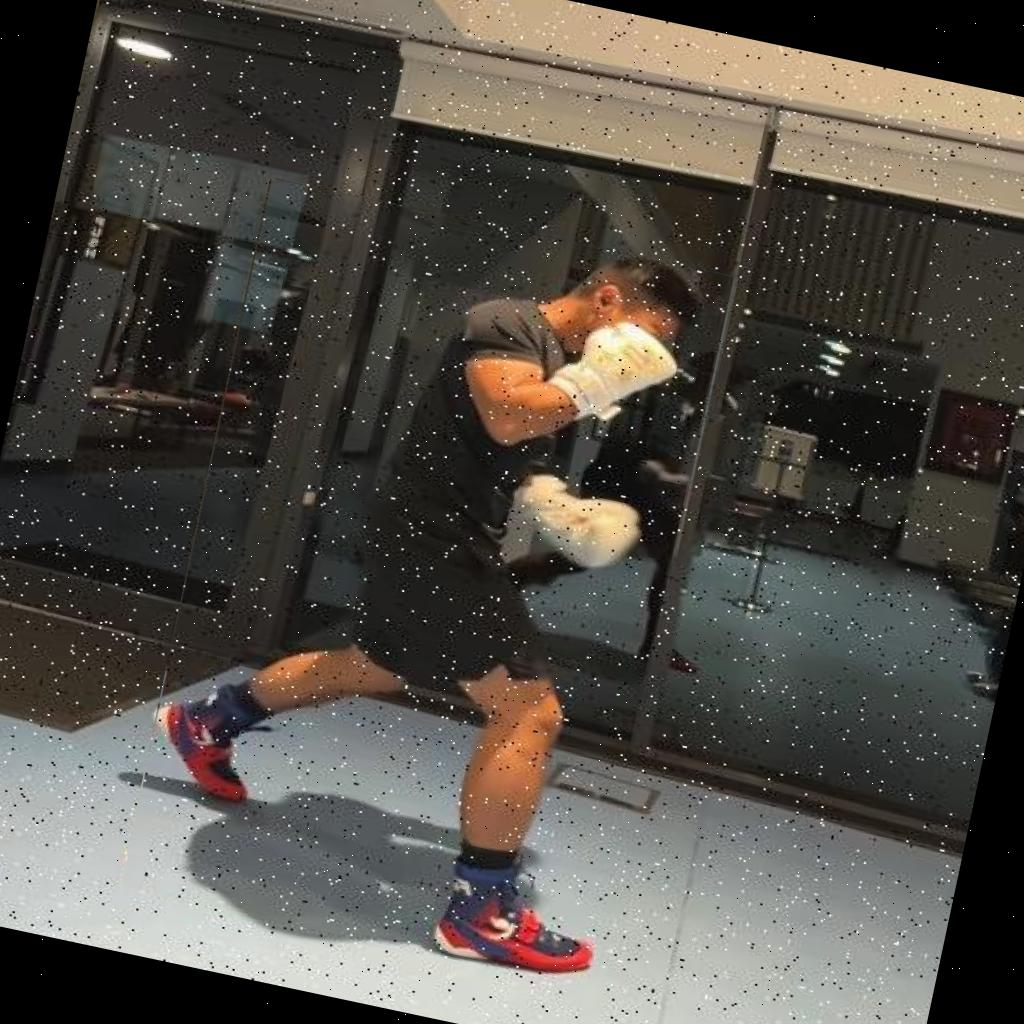uppercut: (120, 178, 738, 988)
